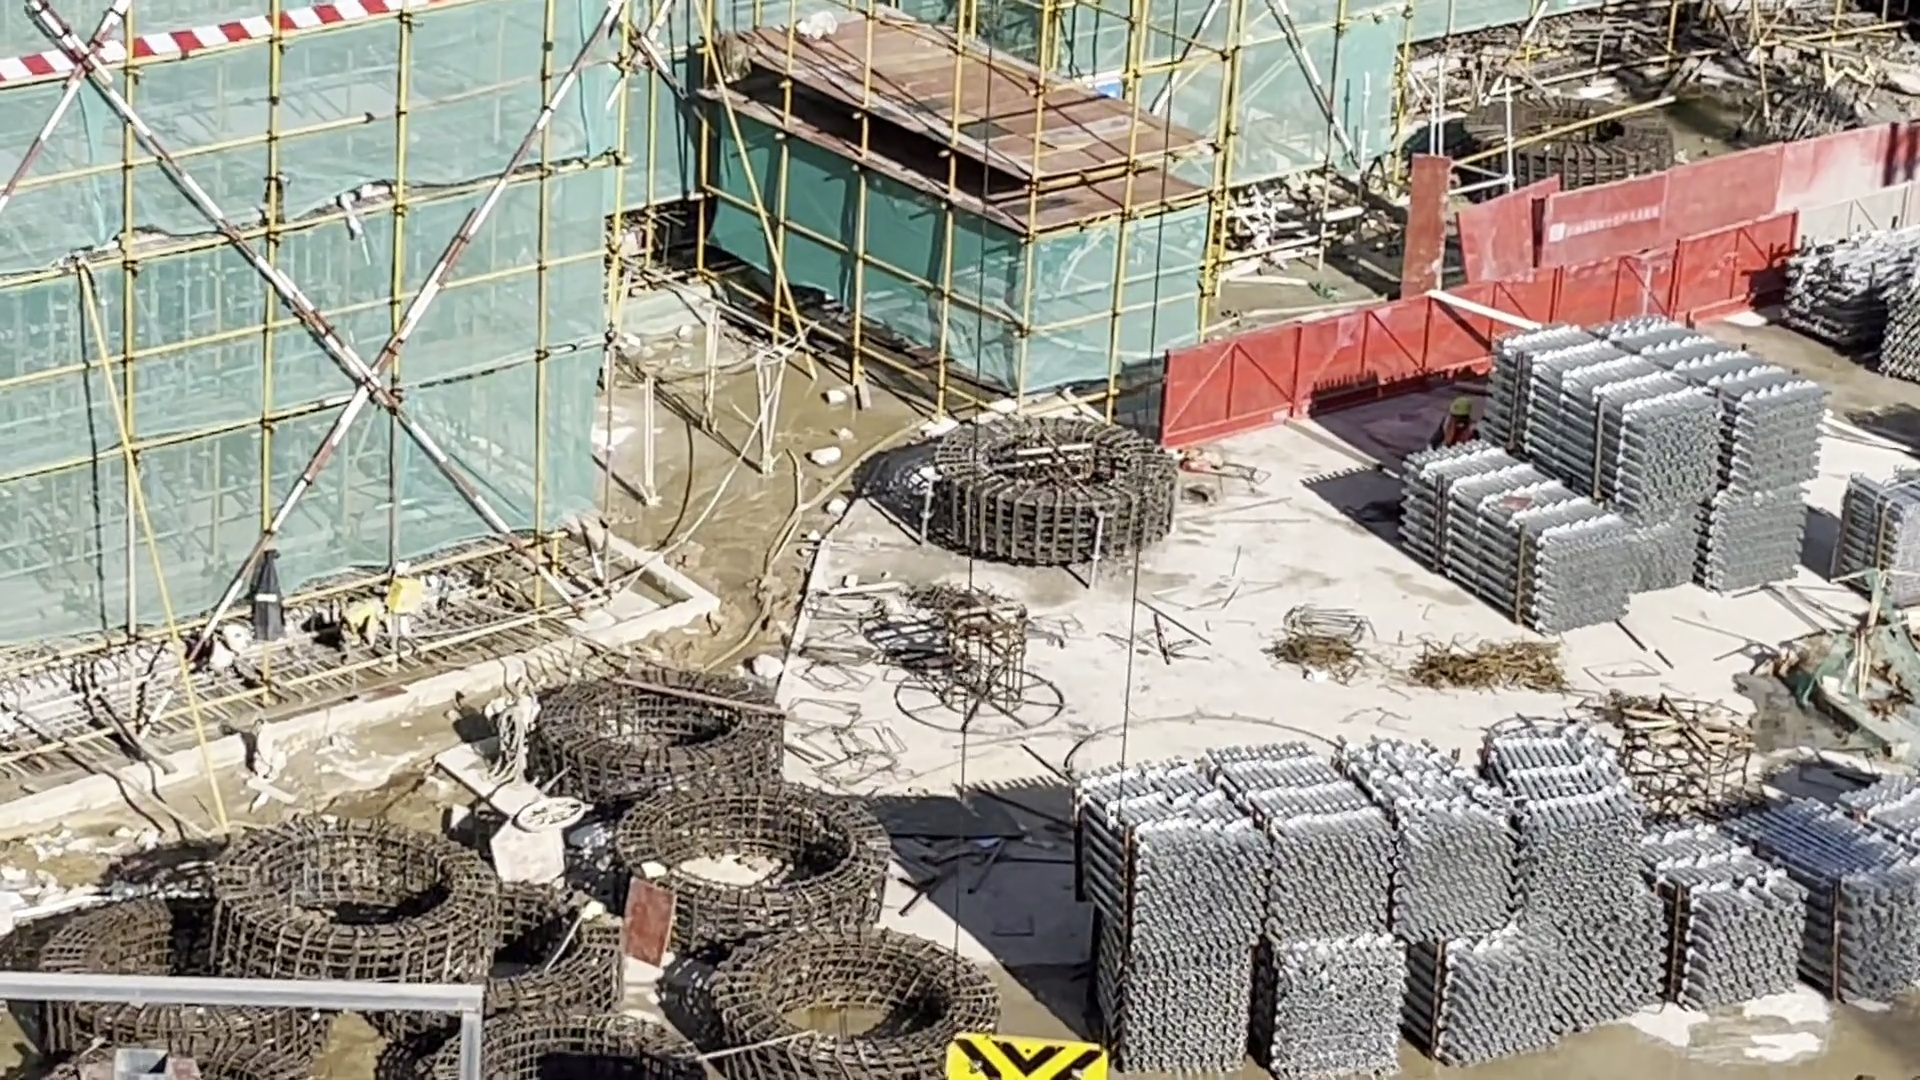fence: (1160, 182, 1920, 452)
helmet: (1444, 383, 1479, 429)
person: (1426, 385, 1484, 463)
scaffold: (1067, 736, 1920, 1079), (1396, 315, 1829, 635), (1793, 238, 1920, 381), (1828, 465, 1920, 608)
